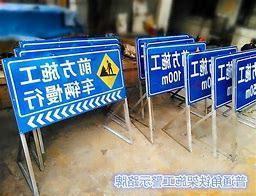sign: (4, 47, 124, 132), (147, 45, 184, 94), (188, 51, 212, 111), (234, 57, 256, 117), (215, 54, 231, 114)
